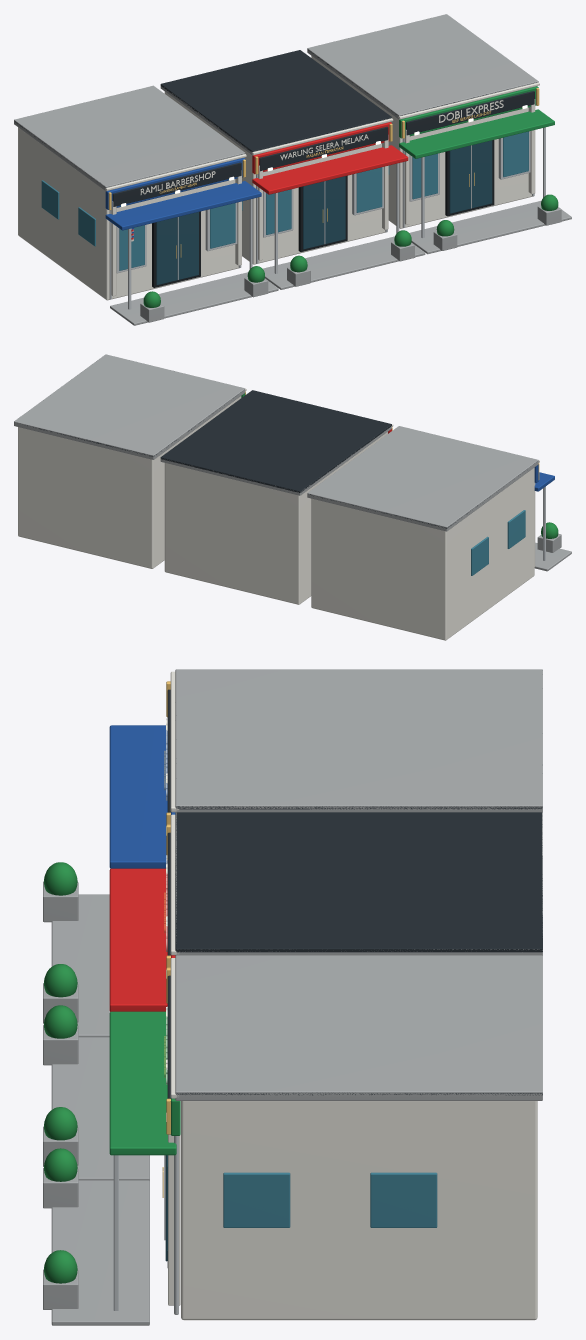
The model's file is buildings.fbx.
3 renders of one model, top to bottom at view 1: azimuth 30°, elevation 25°; view 2: azimuth 150°, elevation 25°; view 3: azimuth 270°, elevation 25°, orthographic. The views are drawn at different scales.
Visible parts, largest first — view 1: RAMLI BARBERSHOP - Flat Roof, DOBI EXPRESS - Flat Roof, Shop - Roof Edge Trim.001, RAMLI BARBERSHOP - Main Building, DOBI EXPRESS - Main Building, WARUNG SELERA MELAKA - Main Building, Shop - Entrance Pavement, WARUNG SELERA MELAKA - Entrance Canopy, RAMLI BARBERSHOP - Entrance Canopy, DOBI EXPRESS - Entrance Canopy, Shop - Entrance Pavement.002, Shop - Entrance Pavement.001 (+29 smaller); view 2: RAMLI BARBERSHOP - Main Building, WARUNG SELERA MELAKA - Main Building, DOBI EXPRESS - Main Building, RAMLI BARBERSHOP - Flat Roof, DOBI EXPRESS - Flat Roof, Shop - Roof Edge Trim.001, WARUNG SELERA MELAKA - Flat Roof, Shop - Entrance Pavement, RAMLI BARBERSHOP - Side Window, RAMLI BARBERSHOP - Side Window.001; view 3: DOBI EXPRESS - Main Building, DOBI EXPRESS - Flat Roof, RAMLI BARBERSHOP - Flat Roof, Shop - Roof Edge Trim.001, Shop - Entrance Pavement.002, DOBI EXPRESS - Entrance Canopy, RAMLI BARBERSHOP - Entrance Canopy, WARUNG SELERA MELAKA - Entrance Canopy, Shop - Entrance Pavement.001, Shop - Entrance Pavement, DOBI EXPRESS - Side Window.002, DOBI EXPRESS - Side Window.003 (+18 smaller).
Part boxes in pixels (<box>): RAMLI BARBERSHOP - Flat Roof: <box>14,85,245,191</box>; DOBI EXPRESS - Flat Roof: <box>307,14,538,119</box>; Shop - Roof Edge Trim.001: <box>160,50,391,151</box>; RAMLI BARBERSHOP - Main Building: <box>18,127,239,300</box>; DOBI EXPRESS - Main Building: <box>311,56,532,228</box>; WARUNG SELERA MELAKA - Main Building: <box>164,92,385,264</box>; Shop - Entrance Pavement: <box>110,272,278,325</box>; WARUNG SELERA MELAKA - Entrance Canopy: <box>252,145,408,194</box>; RAMLI BARBERSHOP - Entrance Canopy: <box>105,181,261,230</box>; DOBI EXPRESS - Entrance Canopy: <box>399,109,554,158</box>; Shop - Entrance Pavement.002: <box>409,200,571,254</box>; Shop - Entrance Pavement.001: <box>263,236,425,289</box>; RAMLI BARBERSHOP - Main Building: <box>311,467,534,640</box>; WARUNG SELERA MELAKA - Main Building: <box>164,432,387,604</box>; DOBI EXPRESS - Main Building: <box>18,396,241,568</box>; RAMLI BARBERSHOP - Flat Roof: <box>307,426,538,531</box>; DOBI EXPRESS - Flat Roof: <box>14,354,245,459</box>; Shop - Roof Edge Trim.001: <box>160,390,391,492</box>; WARUNG SELERA MELAKA - Flat Roof: <box>160,427,391,495</box>; Shop - Entrance Pavement: <box>534,542,571,571</box>; RAMLI BARBERSHOP - Side Window: <box>507,510,525,548</box>; RAMLI BARBERSHOP - Side Window.001: <box>471,536,488,575</box>; DOBI EXPRESS - Main Building: <box>181,1101,537,1320</box>; DOBI EXPRESS - Flat Roof: <box>175,955,542,1100</box>; RAMLI BARBERSHOP - Flat Roof: <box>175,669,542,812</box>; Shop - Roof Edge Trim.001: <box>175,812,542,952</box>; Shop - Entrance Pavement.002: <box>51,1180,149,1325</box>; DOBI EXPRESS - Entrance Canopy: <box>109,1011,176,1155</box>; RAMLI BARBERSHOP - Entrance Canopy: <box>109,725,167,868</box>; WARUNG SELERA MELAKA - Entrance Canopy: <box>109,868,167,1011</box>; Shop - Entrance Pavement.001: <box>51,1037,149,1181</box>; Shop - Entrance Pavement: <box>51,894,109,1037</box>; DOBI EXPRESS - Side Window.002: <box>223,1172,290,1227</box>; DOBI EXPRESS - Side Window.003: <box>370,1172,437,1227</box>.
Size of the model in its own units: 2270 by 575 by 1122.
